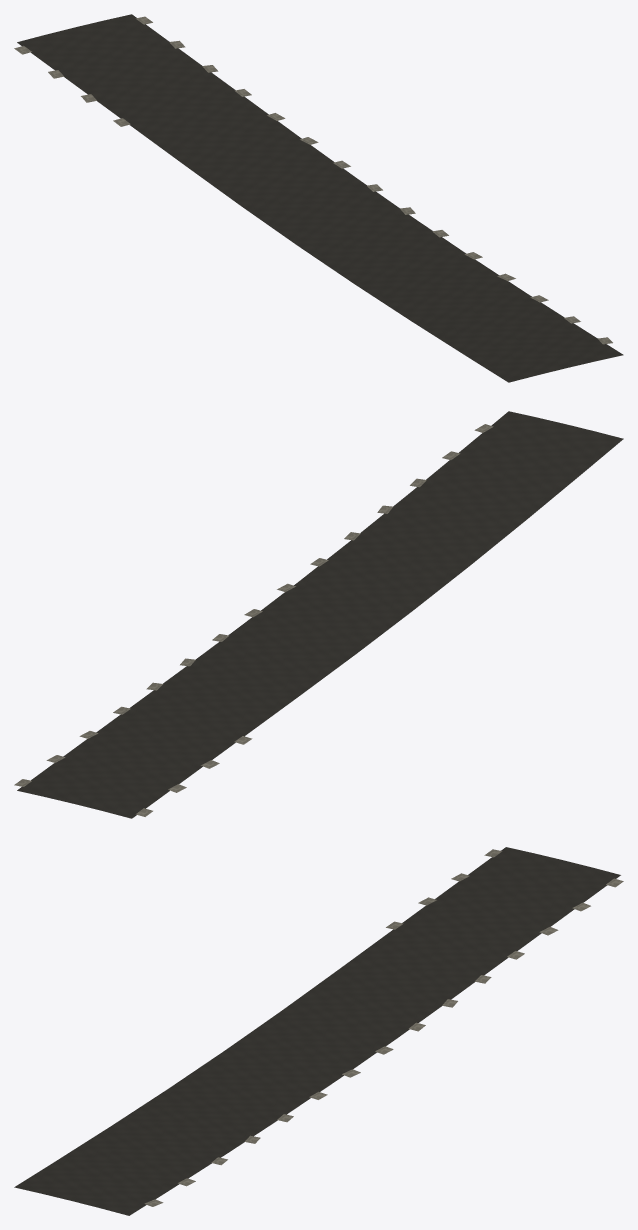
File: SM_Caliche_RoadWear.fbx
3 views of the same model, one above another, from view 1: azimuth 30°, elevation 25°; view 2: azimuth 150°, elevation 25°; view 3: azimuth 330°, elevation 25° (orthographic).
Parts seen in each view (by area): view 1: SM_Caliche_RoadWear; view 2: SM_Caliche_RoadWear; view 3: SM_Caliche_RoadWear.
Part boxes in pixels (x1=…): SM_Caliche_RoadWear: x1=14, y1=14, x2=623, y2=382; SM_Caliche_RoadWear: x1=14, y1=411, x2=623, y2=818; SM_Caliche_RoadWear: x1=14, y1=847, x2=623, y2=1215.
Size of the model in its own units: 10.89 by 69.5 by 1.61.
